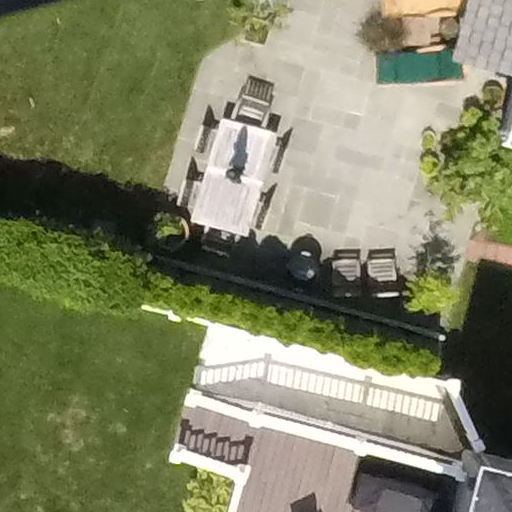flower pot: (229, 10, 280, 55), (144, 212, 194, 254), (413, 147, 446, 179), (477, 83, 502, 110), (416, 127, 440, 151)
